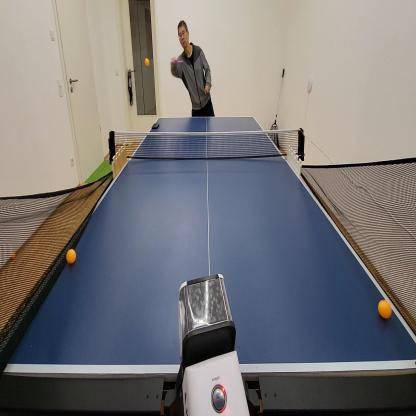Ball: (380, 300, 391, 319), (67, 249, 76, 263), (145, 57, 150, 67), (11, 253, 15, 261), (101, 182, 106, 186)
